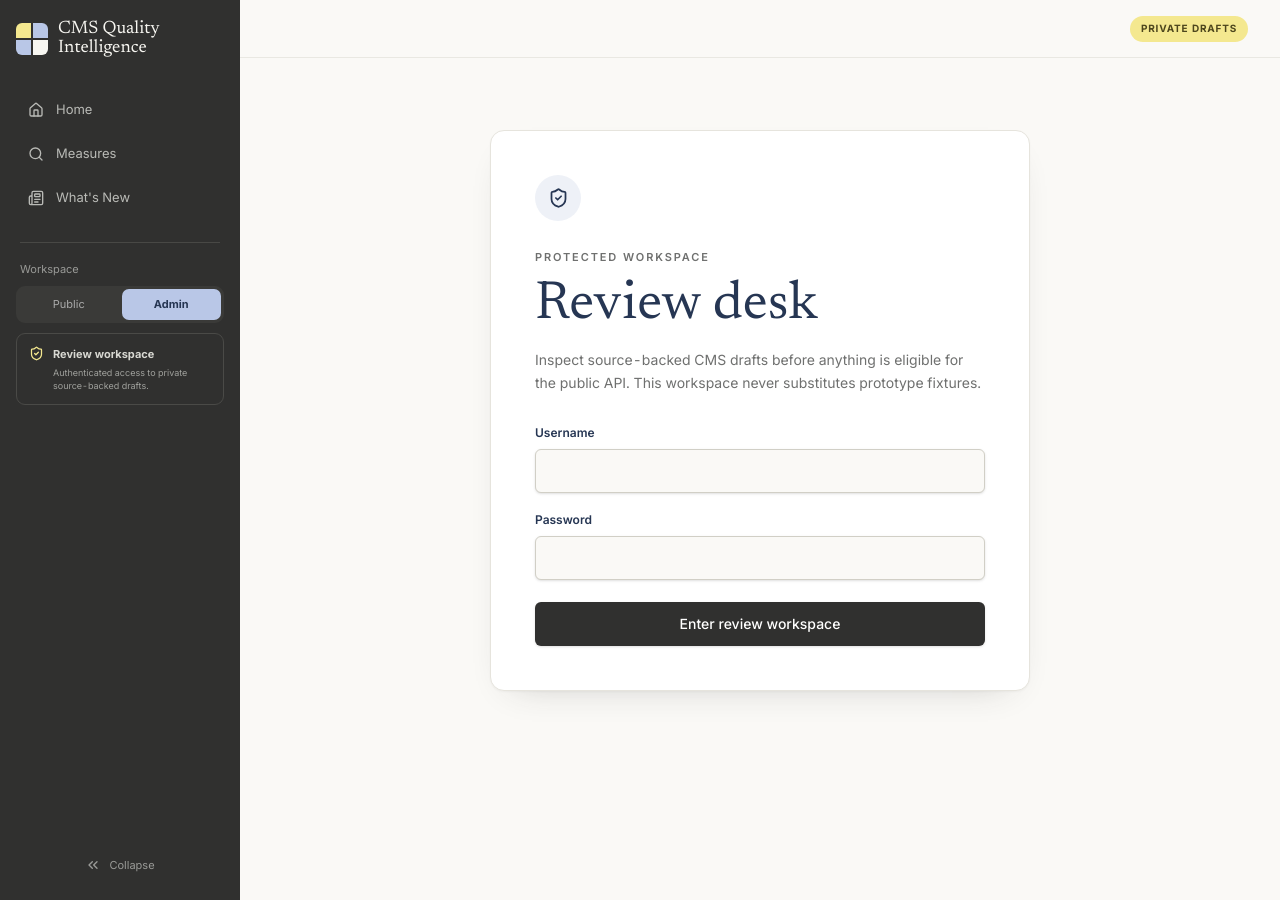
Test: private admin review workspace › authenticates and loads only API-backed private review records
This screenshot has width=1280, height=900.
Type "reviewer" into the field labelled "Username".
click(760, 471); type("reviewer")  # box [535,449,985,493]
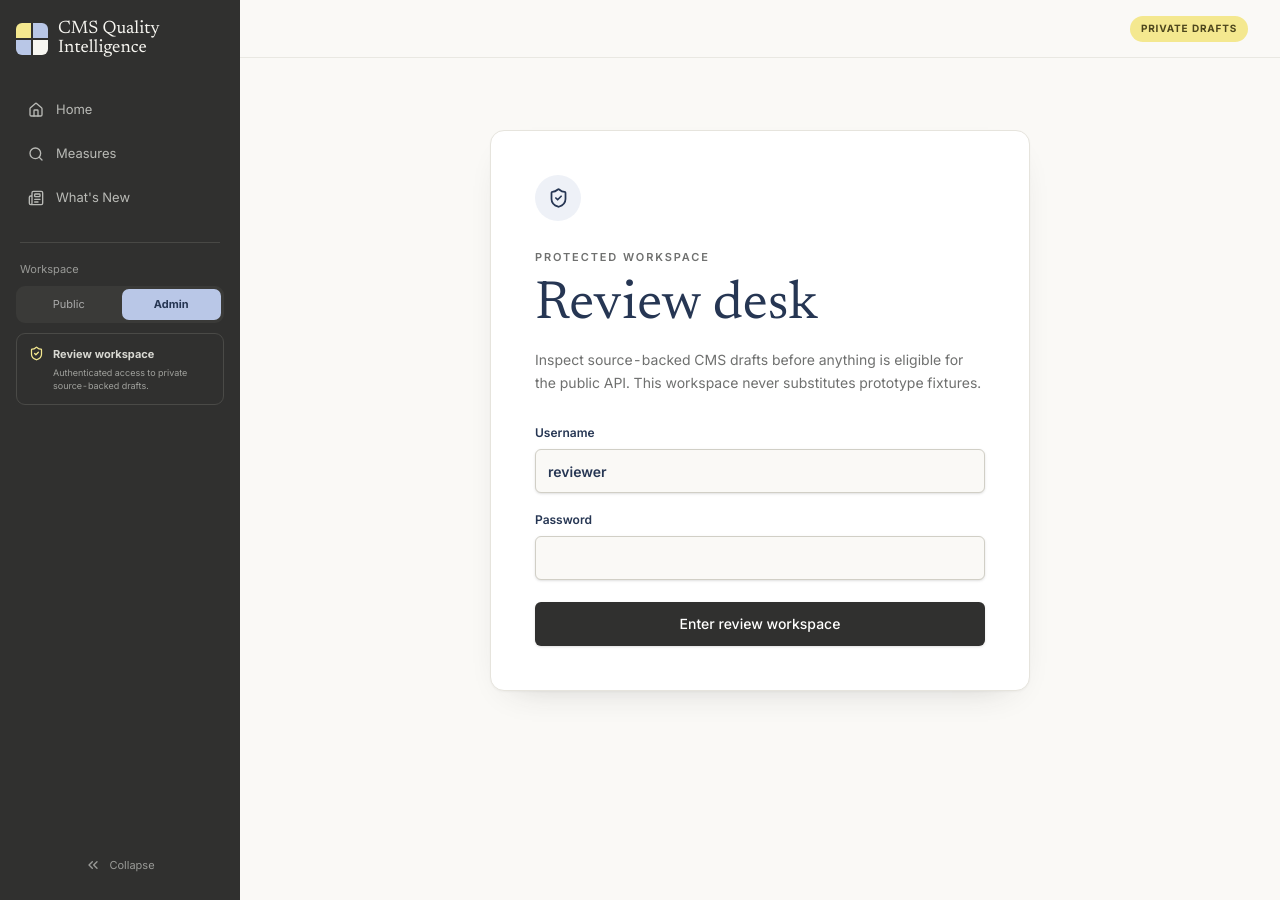
Type "not-a-real-password" into the password field labelled "Password".
click(760, 558); type("not-a-real-password")  # box [535,536,985,580]
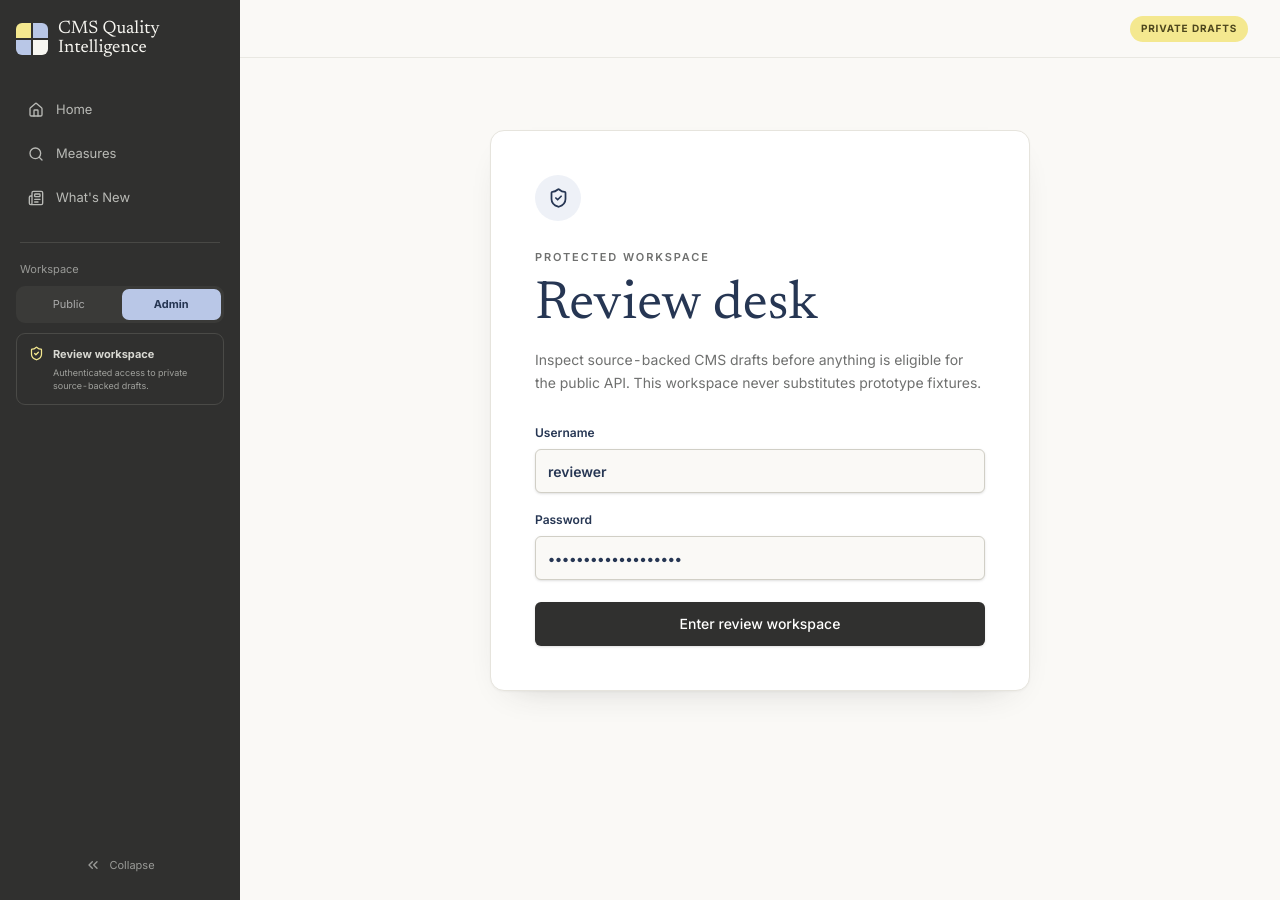
Click the button "Enter review workspace".
click(760, 624)  # box [535,602,985,646]
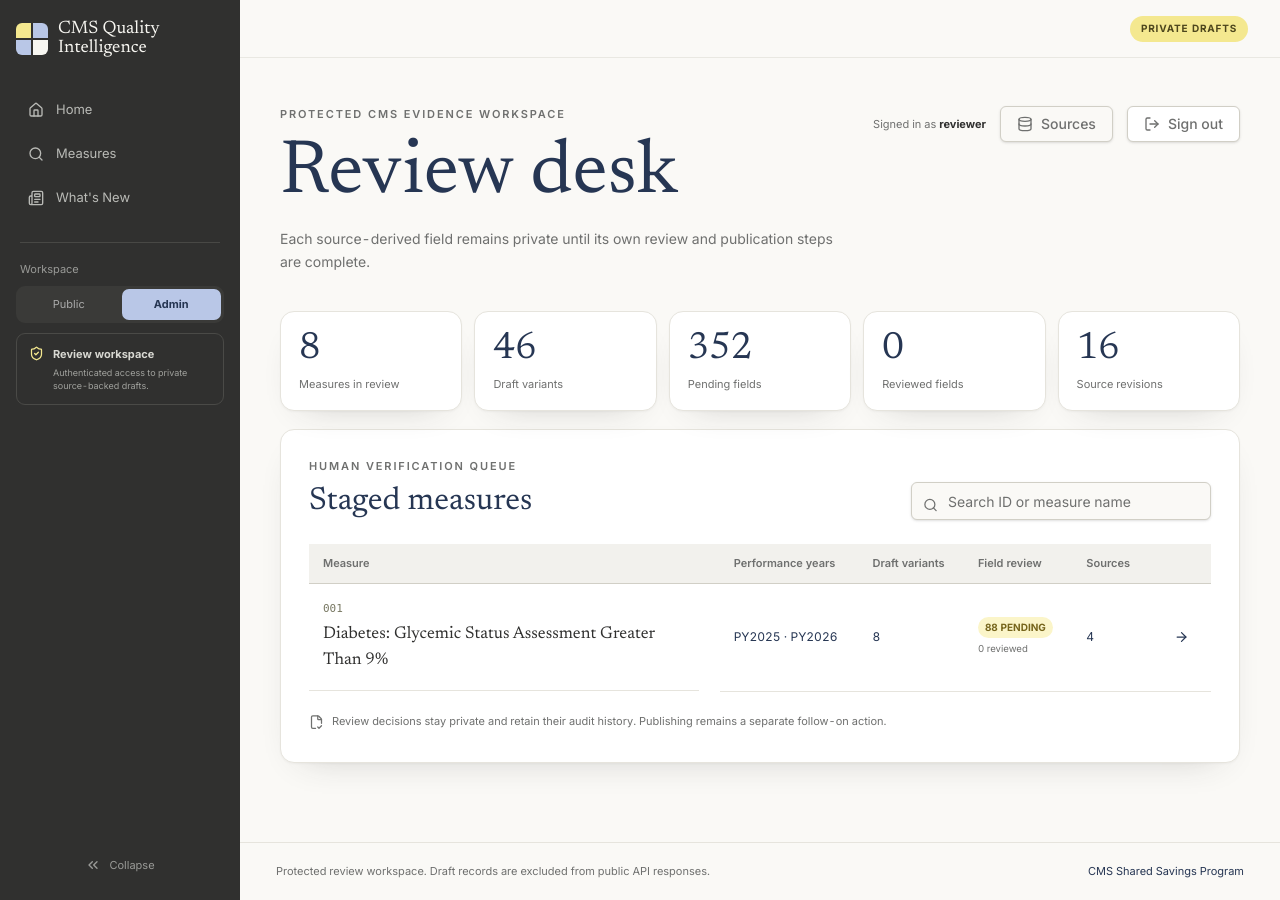
Expected: the text "Diabetes: Glycemic Status Assessment Greater Than 9%" is shown, [323,622,685,673]
Expected: the text "352" is shown, [688,330,752,368]
Expected: the text "Pending fields" is shown, [688,377,762,391]
